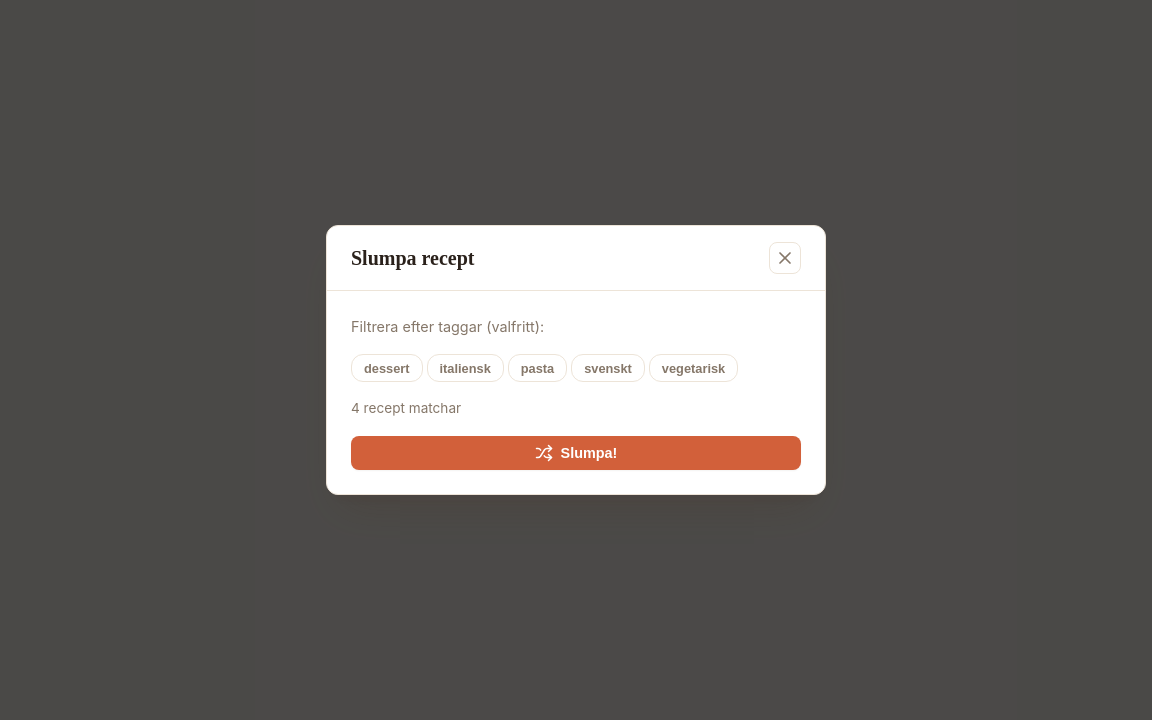
RandomRecipeDialog › tag filtering › should update recipe count when tags are selected
expect the text "4 recept matchar" is shown: met, box [351, 400, 461, 416]
Click the button "italiensk". click: (465, 368)
box: [426, 354, 504, 382]
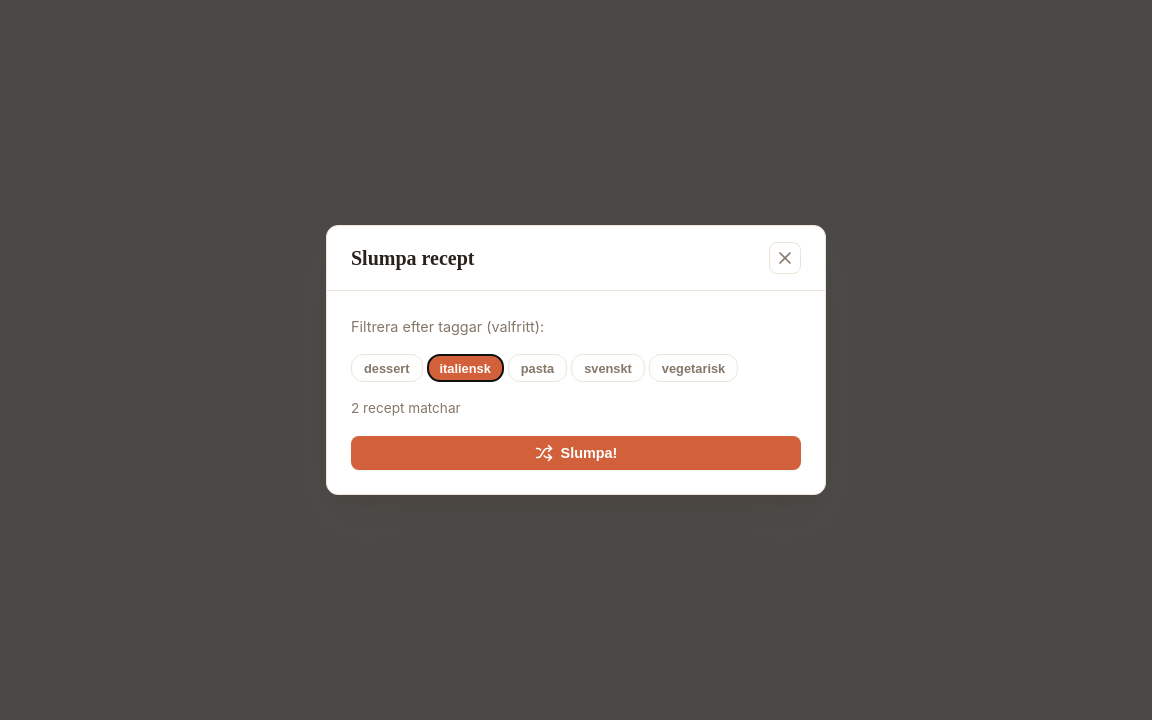
expect the text "2 recept matchar" is shown: met, box [351, 400, 461, 416]
